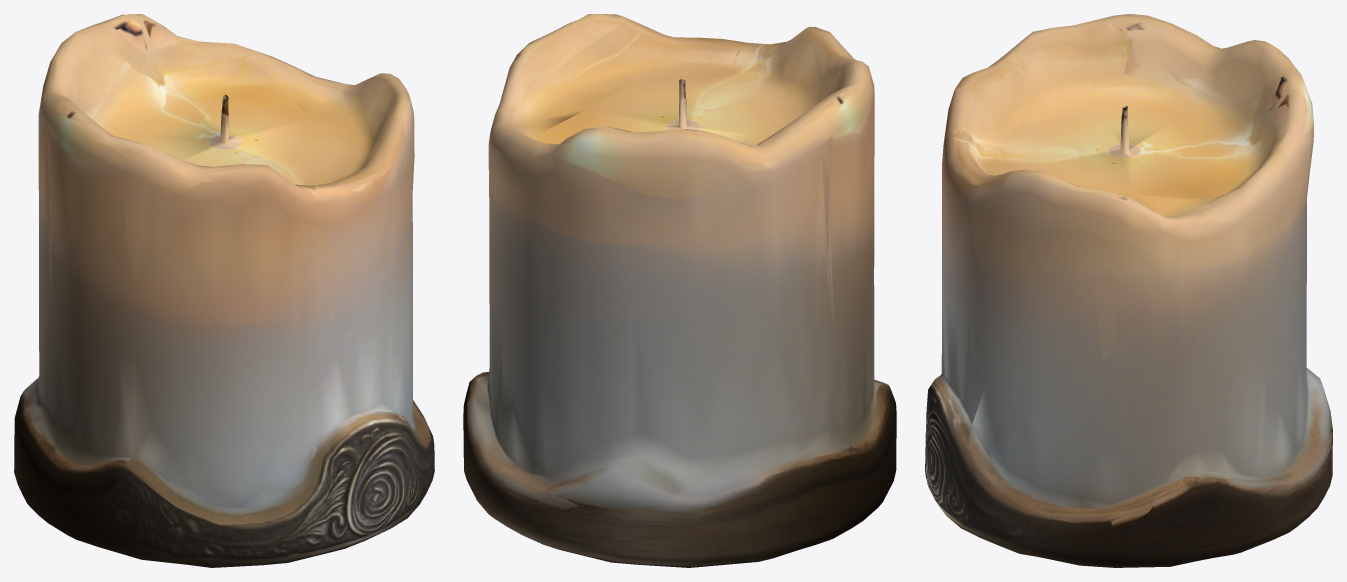
Rendered from candle.fbx.
3 views of the same model, side by side, from view 1: azimuth 30°, elevation 25°; view 2: azimuth 150°, elevation 25°; view 3: azimuth 270°, elevation 25° (orthographic). The views are drawn at different scales.
Parts seen in each view (by area): view 1: Mesh_0; view 2: Mesh_0; view 3: Mesh_0.
Boxes of the visible parts, x1,y1,x2,y2 form: Mesh_0: (14,14,434,567); Mesh_0: (463,14,896,567); Mesh_0: (925,14,1332,567).
Bounding box in the file's own units: 132 × 147 × 131.
Materials: 1 (1 with a texture image).
